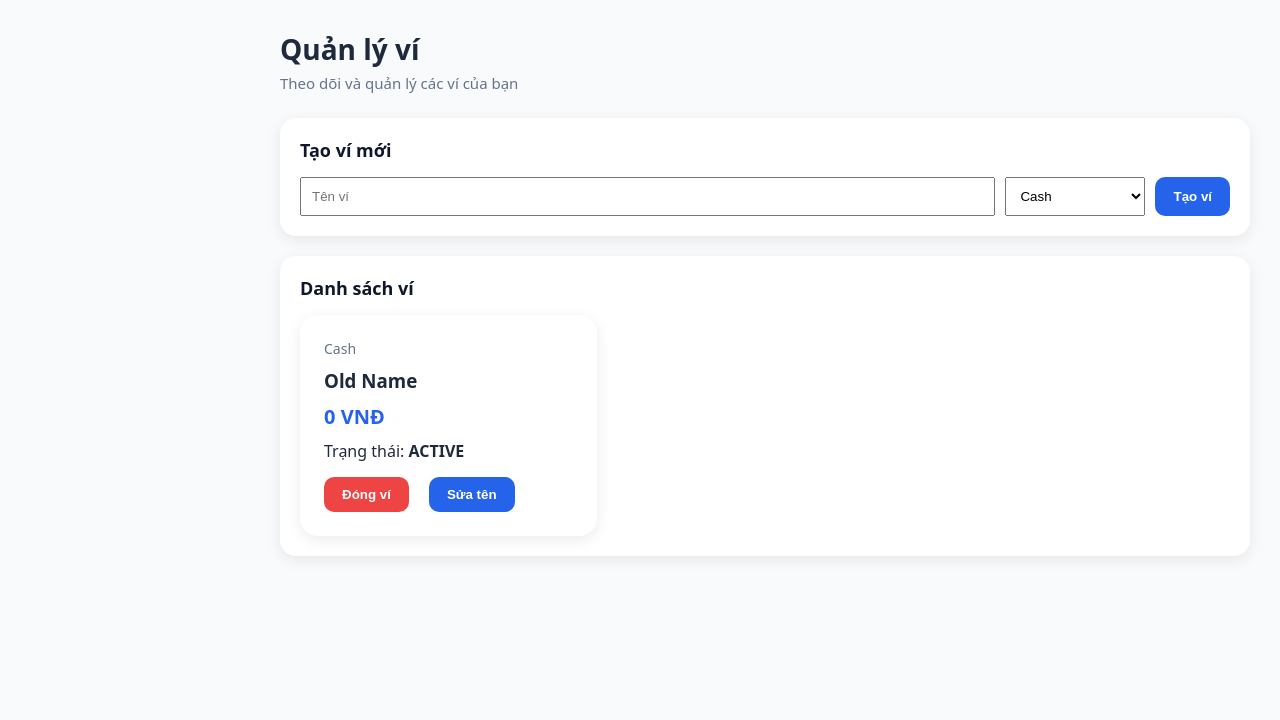
Wallets page › edits wallet name and closes modal
Click the button "Sửa tên": {"x": 472, "y": 494} [429, 477, 515, 512]
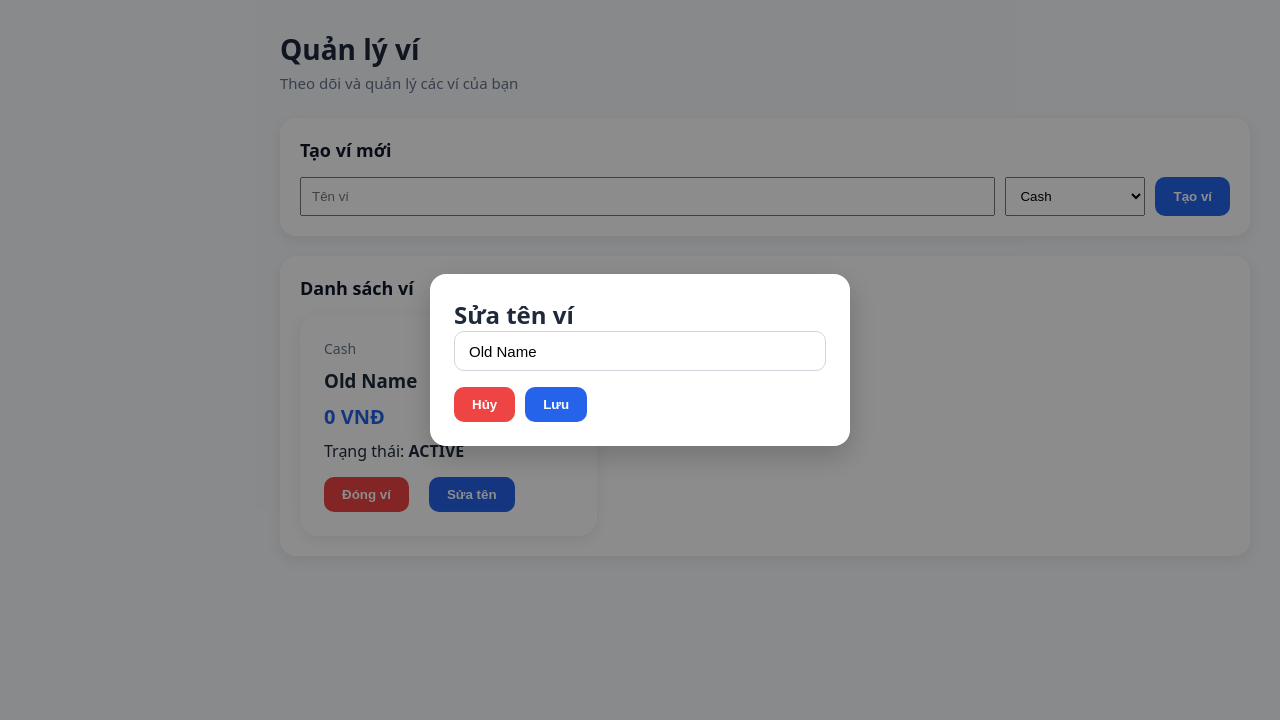
Replace the text in the field with placeholder "Tên ví" with "Updated Name": {"x": 640, "y": 351} [454, 331, 826, 371]
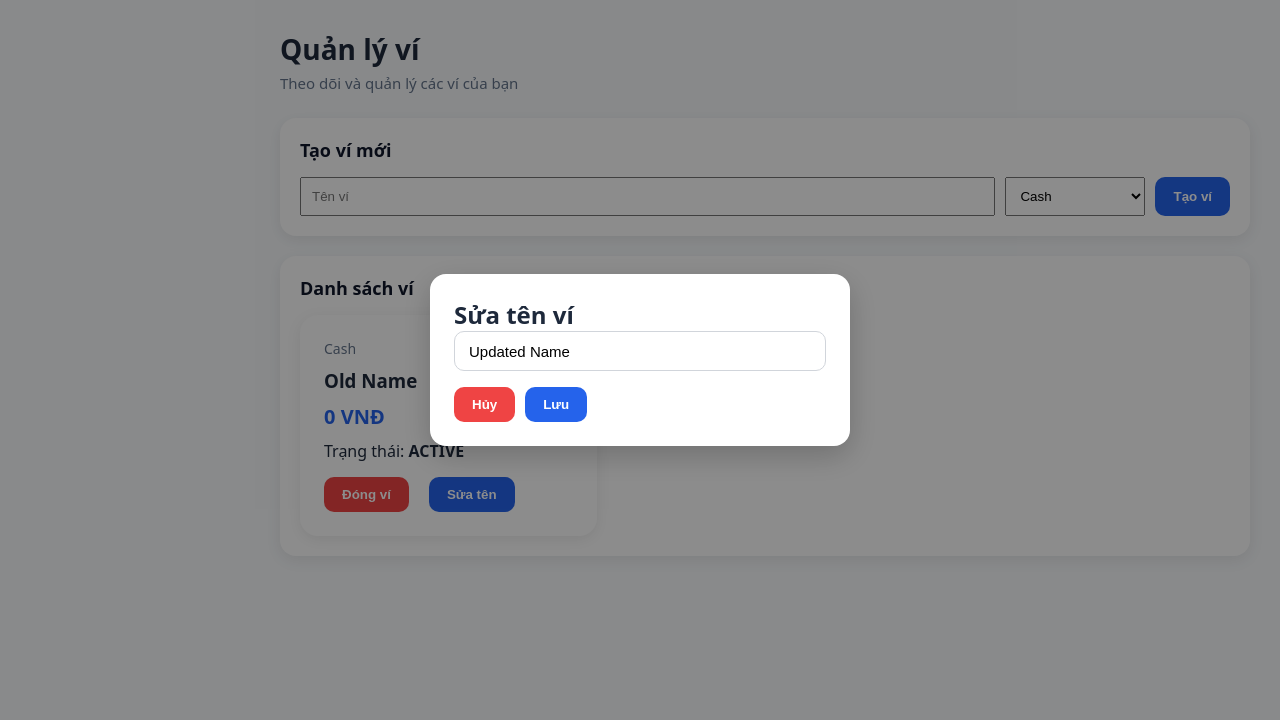
Click the button "Lưu": {"x": 556, "y": 404} [525, 387, 587, 422]
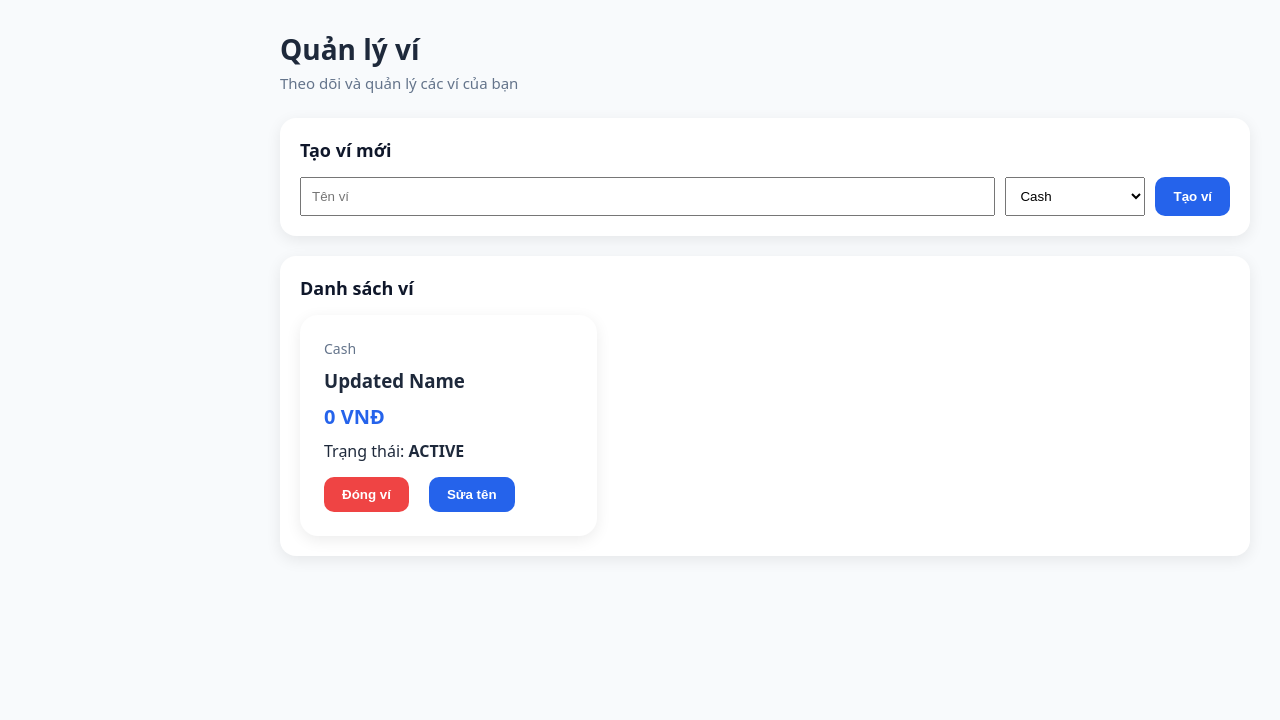
expect the heading "Updated Name" is shown: met, box [324, 368, 465, 393]
